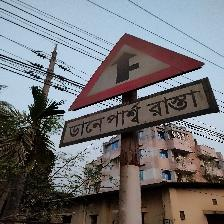Side-road-right: (61, 33, 219, 150)
